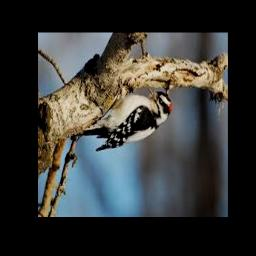Woodpecker: (76, 86, 171, 151)
